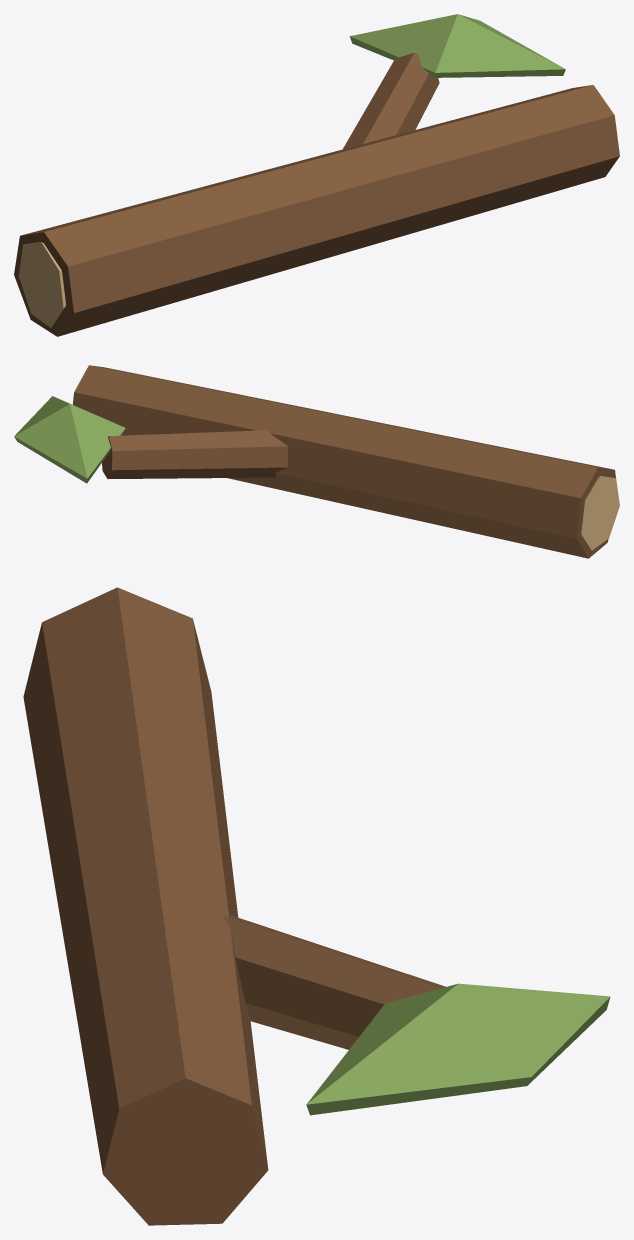
Rendered from CC_FallenBranch.fbx.
3 renders of one model, top to bottom at view 1: azimuth 30°, elevation 25°; view 2: azimuth 150°, elevation 25°; view 3: azimuth 270°, elevation 25°, orthographic. The views are drawn at different scales.
Visible parts, largest first — view 1: Branch.011, Attached leaf, Fork, Cut; view 2: Branch.011, Fork, Attached leaf, Cut; view 3: Branch.011, Attached leaf, Fork.
Boxes of the visible parts, x1=… form: Branch.011: x1=14, y1=85, x2=619, y2=336; Attached leaf: x1=349, y1=14, x2=565, y2=77; Fork: x1=343, y1=52, x2=439, y2=149; Cut: x1=18, y1=242, x2=65, y2=327; Branch.011: x1=72, y1=365, x2=615, y2=558; Fork: x1=102, y1=430, x2=288, y2=478; Attached leaf: x1=14, y1=396, x2=125, y2=483; Cut: x1=581, y1=476, x2=619, y2=550; Branch.011: x1=23, y1=587, x2=268, y2=1225; Attached leaf: x1=306, y1=983, x2=610, y2=1115; Fork: x1=223, y1=915, x2=445, y2=1049.
Bounding box in the file's own units: 3.05 × 0.5897 × 1.55.
